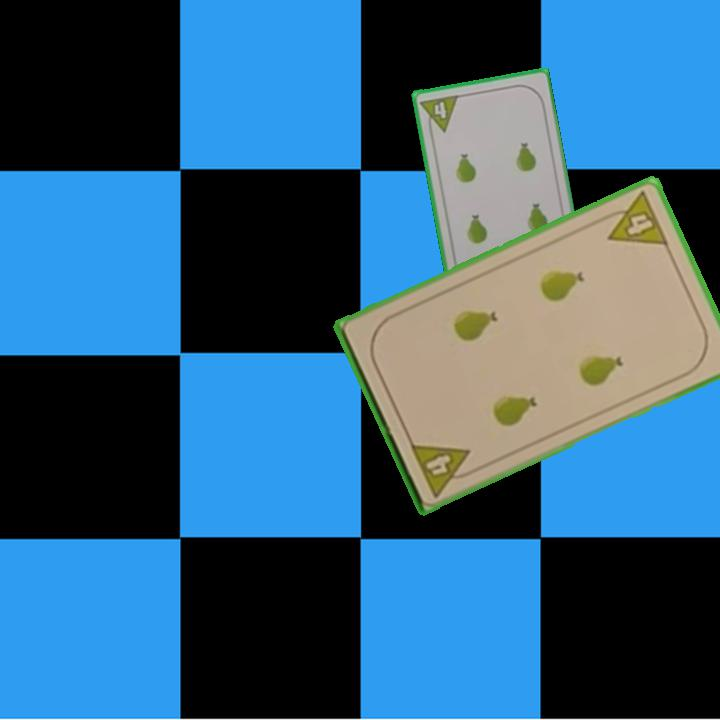4p: (596, 188, 672, 249), (406, 439, 480, 500), (417, 91, 461, 137)
